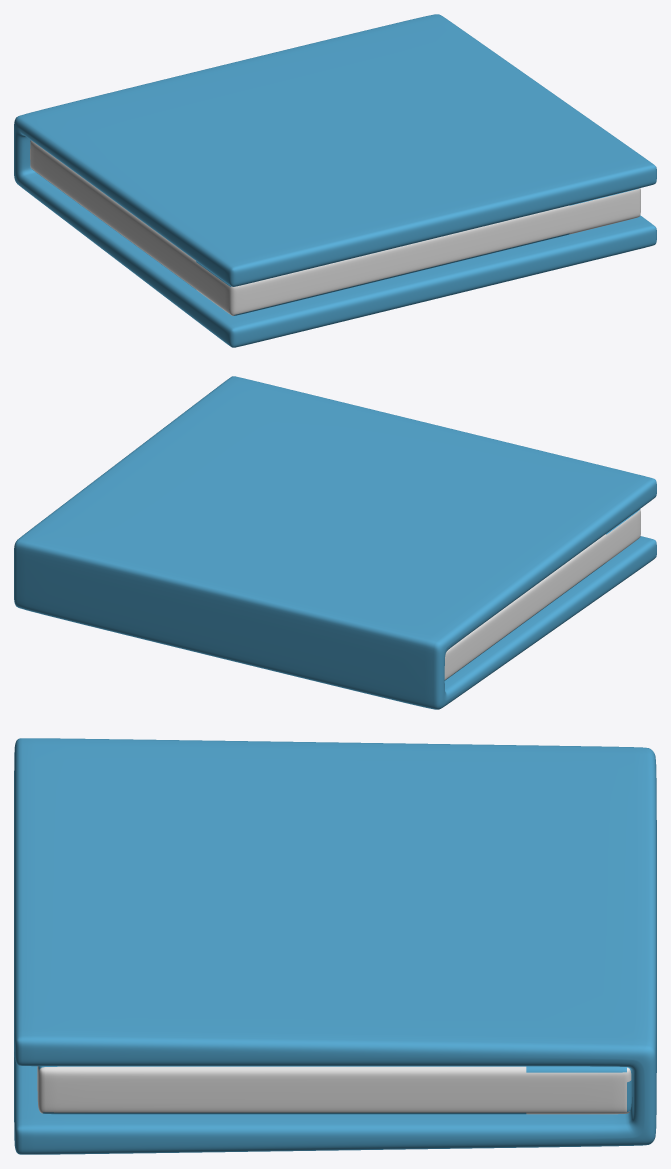
Rendered from Book01.fbx.
3 views of the same model, one above another, from view 1: azimuth 30°, elevation 25°; view 2: azimuth 150°, elevation 25°; view 3: azimuth 270°, elevation 25° (orthographic). The views are drawn at different scales.
Parts seen in each view (by area): view 1: Plane.021; view 2: Plane.021; view 3: Plane.021.
Boxes of the visible parts, left/top/right/bottom form: Plane.021: left=14, top=14, right=656, bottom=347; Plane.021: left=14, top=376, right=656, bottom=709; Plane.021: left=14, top=738, right=656, bottom=1154.
Bounding box in the file's own units: 147 × 26.74 × 131.
